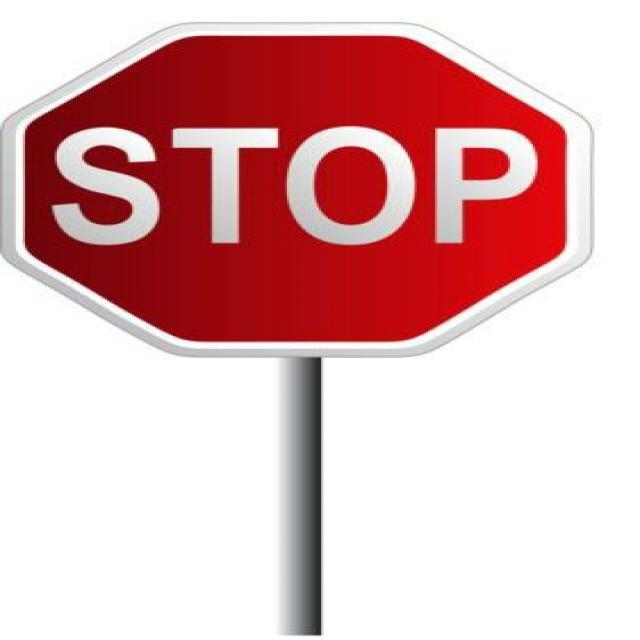stop: (0, 19, 594, 359)
